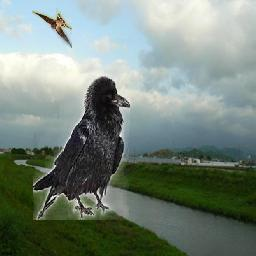Crow: (34, 76, 131, 220)
Swallow: (32, 8, 72, 48)
